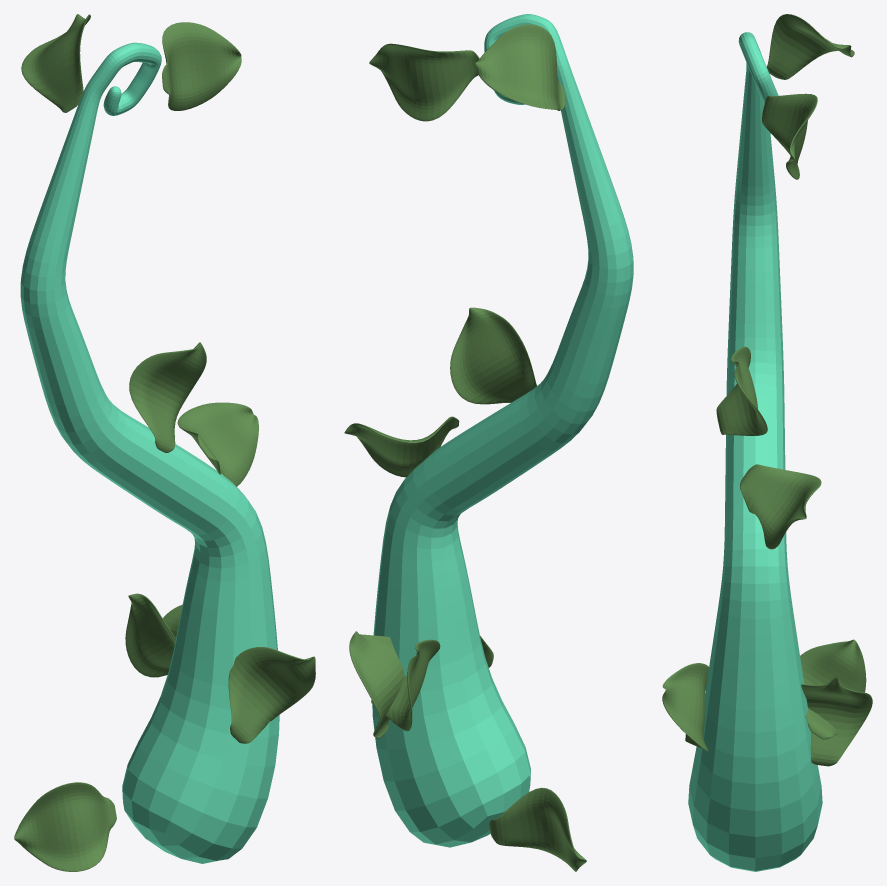
The model's file is Beanstalk#03.fbx.
3 views of the same model, side by side, from view 1: azimuth 30°, elevation 25°; view 2: azimuth 150°, elevation 25°; view 3: azimuth 270°, elevation 25° (orthographic). The views are drawn at different scales.
Parts seen in each view (by area): view 1: Vert.001, Vert.001|Plane.006|Dupli|5, Vert.001|Plane.006|Dupli|, Vert.001|Plane.006|Dupli|2, Vert.001|Plane.006|Dupli|4, Vert.001|Plane.006|Dupli|7, Vert.001|Plane.006|Dupli|3, Vert.001|Plane.006|Dupli|6; view 2: Vert.001, Vert.001|Plane.006|Dupli|4, Vert.001|Plane.006|Dupli|2, Vert.001|Plane.006|Dupli|3, Vert.001|Plane.006|Dupli|5, Vert.001|Plane.006|Dupli|1, Vert.001|Plane.006|Dupli|7, Vert.001|Plane.006|Dupli|6; view 3: Vert.001, Vert.001|Plane.006|Dupli|7, Vert.001|Plane.006|Dupli|1, Vert.001|Plane.006|Dupli|6, Vert.001|Plane.006|Dupli|3, Vert.001|Plane.006|Dupli|, Vert.001|Plane.006|Dupli|2, Vert.001|Plane.006|Dupli|4.
Part boxes in pixels (x1,y1,x2,y2): Vert.001: [20, 42, 279, 863]; Vert.001|Plane.006|Dupli|5: [14, 782, 116, 871]; Vert.001|Plane.006|Dupli|: [228, 647, 315, 743]; Vert.001|Plane.006|Dupli|2: [162, 22, 241, 110]; Vert.001|Plane.006|Dupli|4: [129, 342, 206, 452]; Vert.001|Plane.006|Dupli|7: [177, 402, 258, 486]; Vert.001|Plane.006|Dupli|3: [21, 14, 90, 112]; Vert.001|Plane.006|Dupli|6: [125, 593, 175, 677]; Vert.001: [372, 14, 633, 847]; Vert.001|Plane.006|Dupli|4: [450, 307, 536, 404]; Vert.001|Plane.006|Dupli|2: [369, 43, 479, 121]; Vert.001|Plane.006|Dupli|3: [475, 24, 565, 110]; Vert.001|Plane.006|Dupli|5: [489, 787, 586, 871]; Vert.001|Plane.006|Dupli|1: [349, 631, 404, 738]; Vert.001|Plane.006|Dupli|7: [344, 416, 459, 477]; Vert.001|Plane.006|Dupli|6: [371, 639, 440, 731]; Vert.001: [688, 32, 822, 871]; Vert.001|Plane.006|Dupli|7: [740, 464, 821, 549]; Vert.001|Plane.006|Dupli|1: [801, 676, 872, 766]; Vert.001|Plane.006|Dupli|6: [800, 639, 866, 739]; Vert.001|Plane.006|Dupli|3: [767, 14, 854, 79]; Vert.001|Plane.006|Dupli|: [662, 663, 708, 751]; Vert.001|Plane.006|Dupli|2: [762, 93, 817, 179]; Vert.001|Plane.006|Dupli|4: [716, 346, 767, 435].
Size of the model in its own units: 117 by 367 by 86.76.
